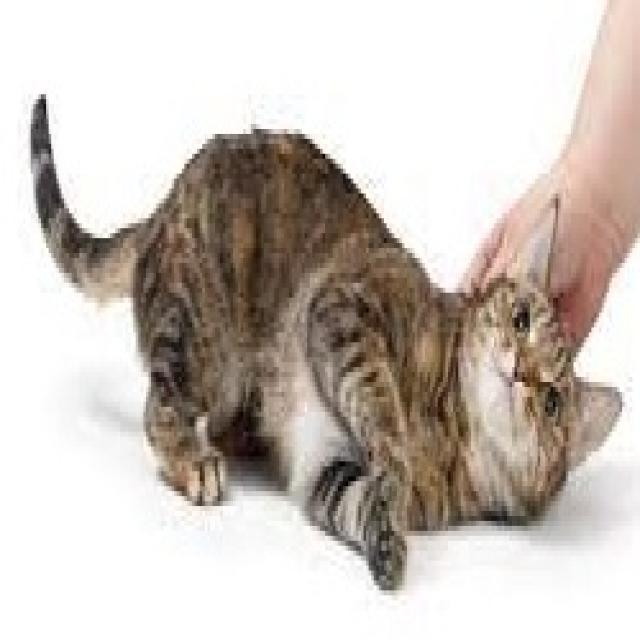cat: (29, 65, 625, 594)
